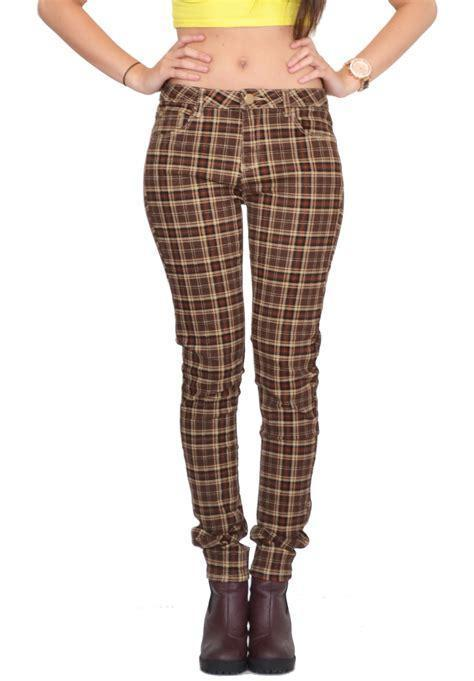pants: (143, 82, 346, 582)
